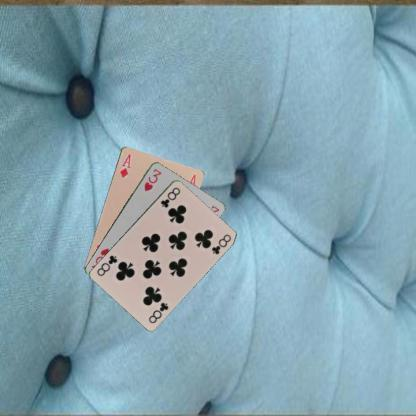3h: (141, 166, 163, 192)
8c: (158, 184, 182, 209), (146, 299, 170, 324)
Ad: (117, 151, 132, 179)
